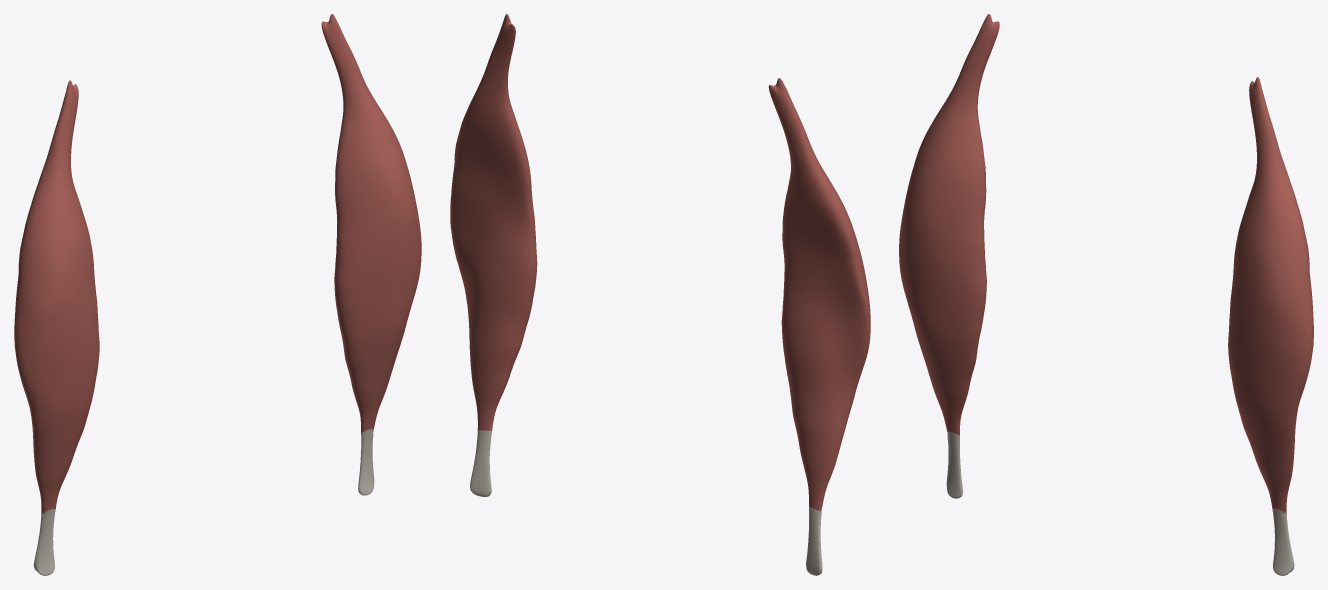
The model's file is adult_female.muscular.LOD4.glb.
3 views of the same model, side by side, from view 1: azimuth 30°, elevation 25°; view 2: azimuth 150°, elevation 25°; view 3: azimuth 330°, elevation 25° (orthographic). The views are drawn at different scales.
Visible parts, largest first — view 1: ADULT.FEMALE.MUSCULAR.RECTUS_FEMORIS.L, ADULT.FEMALE.MUSCULAR.RECTUS_FEMORIS.R, ADULT.FEMALE.MUSCULAR.TENDON_OF_QUADRICEPS_FEMORIS.R, ADULT.FEMALE.MUSCULAR.TENDON_OF_QUADRICEPS_FEMORIS.L; view 2: ADULT.FEMALE.MUSCULAR.RECTUS_FEMORIS.R, ADULT.FEMALE.MUSCULAR.RECTUS_FEMORIS.L, ADULT.FEMALE.MUSCULAR.TENDON_OF_QUADRICEPS_FEMORIS.L, ADULT.FEMALE.MUSCULAR.TENDON_OF_QUADRICEPS_FEMORIS.R; view 3: ADULT.FEMALE.MUSCULAR.RECTUS_FEMORIS.R, ADULT.FEMALE.MUSCULAR.RECTUS_FEMORIS.L, ADULT.FEMALE.MUSCULAR.TENDON_OF_QUADRICEPS_FEMORIS.L, ADULT.FEMALE.MUSCULAR.TENDON_OF_QUADRICEPS_FEMORIS.R.
Part boxes in pixels (x1=…): ADULT.FEMALE.MUSCULAR.RECTUS_FEMORIS.L: x1=321, y1=14, x2=421, y2=432; ADULT.FEMALE.MUSCULAR.RECTUS_FEMORIS.R: x1=14, y1=80, x2=99, y2=513; ADULT.FEMALE.MUSCULAR.TENDON_OF_QUADRICEPS_FEMORIS.R: x1=33, y1=509, x2=55, y2=575; ADULT.FEMALE.MUSCULAR.TENDON_OF_QUADRICEPS_FEMORIS.L: x1=358, y1=429, x2=374, y2=495; ADULT.FEMALE.MUSCULAR.RECTUS_FEMORIS.R: x1=768, y1=78, x2=870, y2=511; ADULT.FEMALE.MUSCULAR.RECTUS_FEMORIS.L: x1=450, y1=14, x2=537, y2=430; ADULT.FEMALE.MUSCULAR.TENDON_OF_QUADRICEPS_FEMORIS.L: x1=470, y1=430, x2=492, y2=496; ADULT.FEMALE.MUSCULAR.TENDON_OF_QUADRICEPS_FEMORIS.R: x1=806, y1=506, x2=822, y2=575; ADULT.FEMALE.MUSCULAR.RECTUS_FEMORIS.R: x1=899, y1=14, x2=999, y2=435; ADULT.FEMALE.MUSCULAR.RECTUS_FEMORIS.L: x1=1228, y1=77, x2=1313, y2=513; ADULT.FEMALE.MUSCULAR.TENDON_OF_QUADRICEPS_FEMORIS.L: x1=1272, y1=508, x2=1294, y2=575; ADULT.FEMALE.MUSCULAR.TENDON_OF_QUADRICEPS_FEMORIS.R: x1=946, y1=431, x2=962, y2=498.
Bounding box in the file's own units: 0.3555 × 0.4034 × 0.0508.
